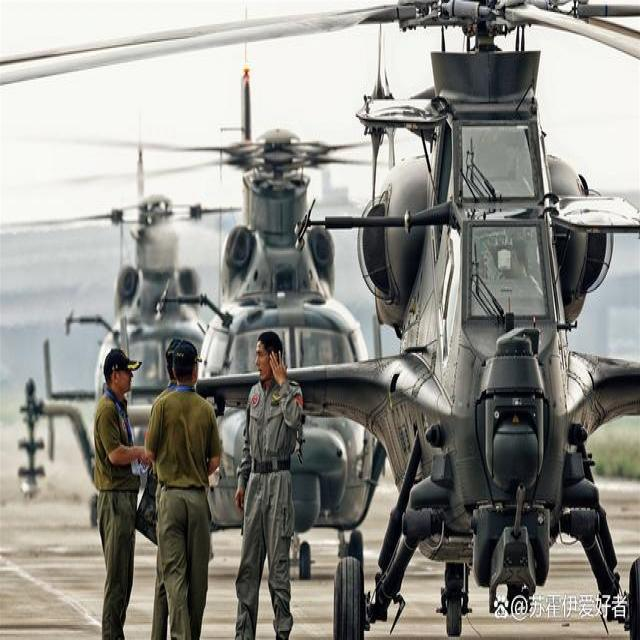MIL_HELO: (0, 0, 640, 640), (60, 91, 397, 566), (10, 171, 234, 546)
